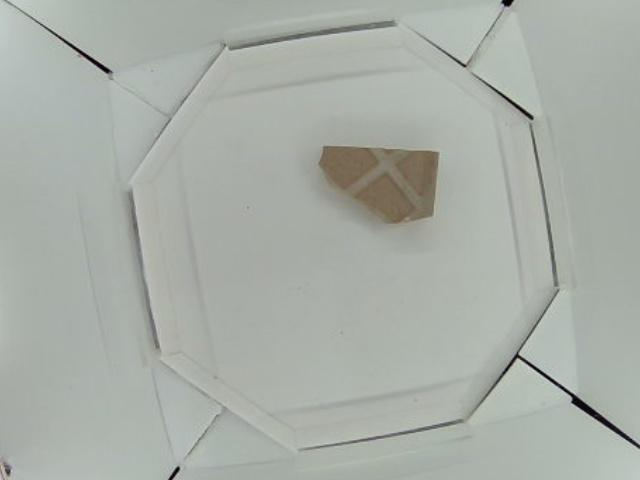China: (321, 149, 440, 222)
